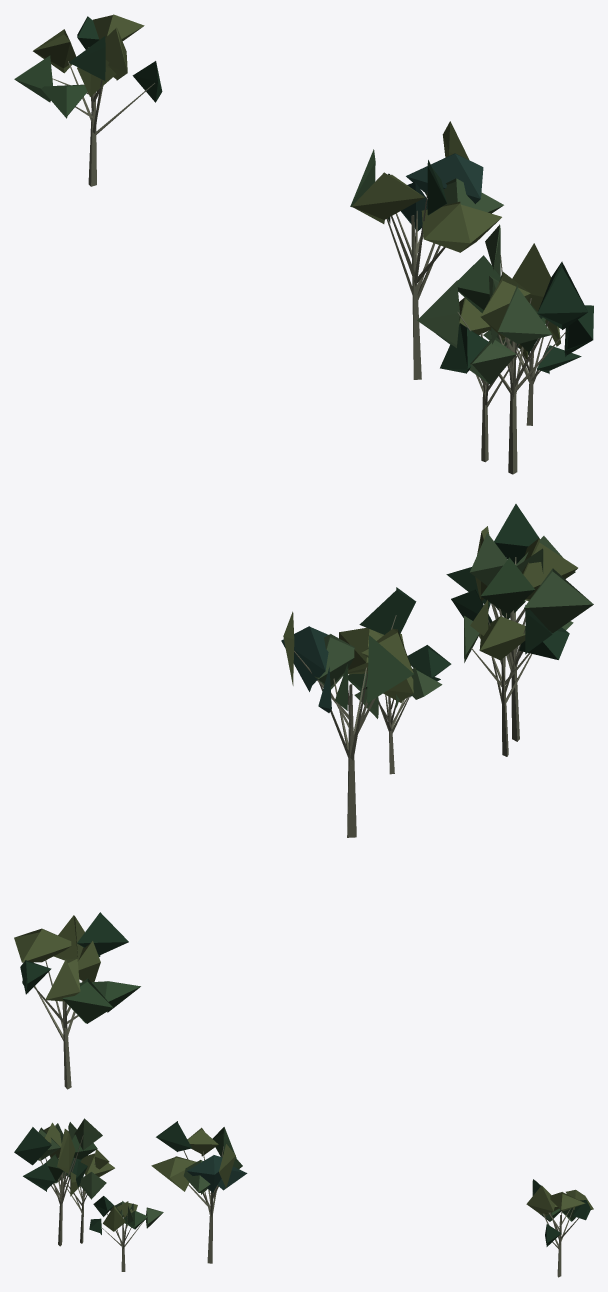
File: forest_25_22.dae
The picture shows the model from 3 angles, top to bottom: view 1: azimuth 30°, elevation 25°; view 2: azimuth 150°, elevation 25°; view 3: azimuth 270°, elevation 25°; orthographic projection. The views are drawn at different scales.
Parts seen in each view (by area): view 1: Node; view 2: Node; view 3: Node.
Part boxes in pixels (x1=…): Node: x1=14, y1=14, x2=593, y2=474; Node: x1=14, y1=504, x2=593, y2=1089; Node: x1=14, y1=1118, x2=593, y2=1277.
Size of the model in its own units: 2.51 by 10.75 by 3.17.
